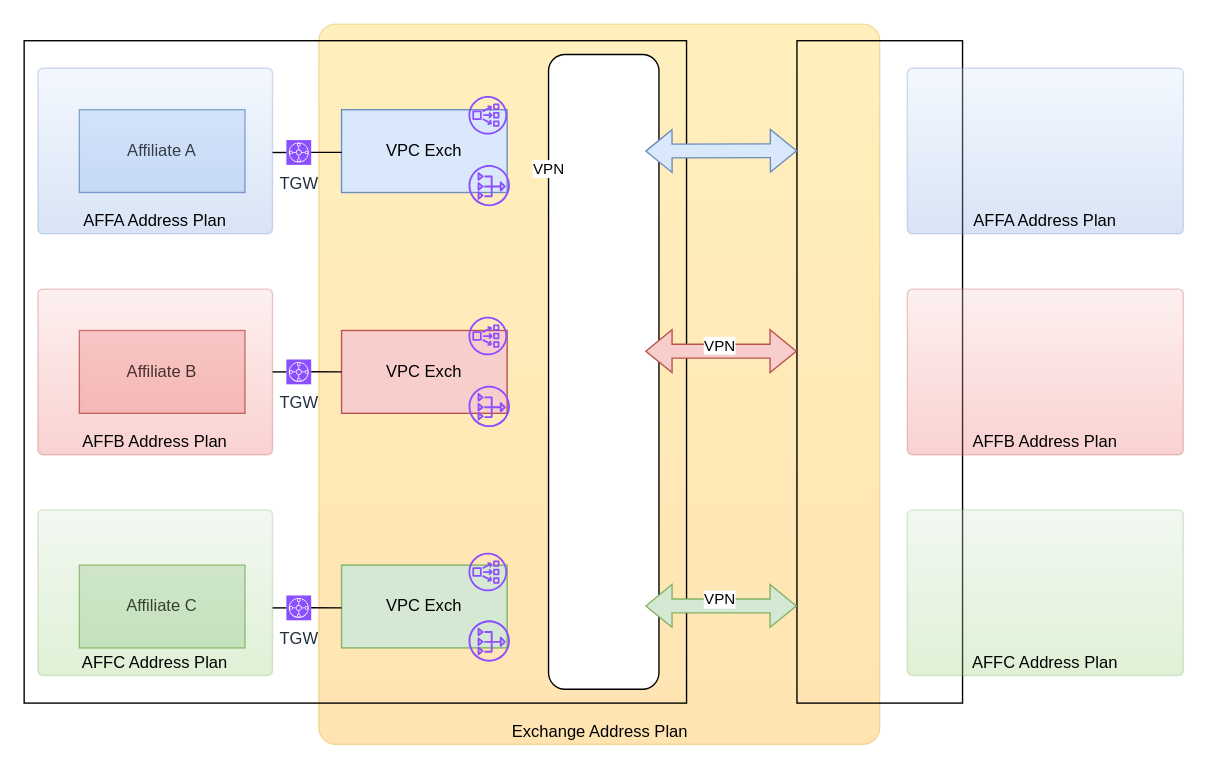
Some shapes in this 1208 by 769 pixel diagram are drawn without their labels. Each missing label, with the box of its shape:
AWS: (23, 39, 687, 703)
CLOUWAN: (547, 53, 659, 689)
OnPREM: (796, 39, 963, 703)
